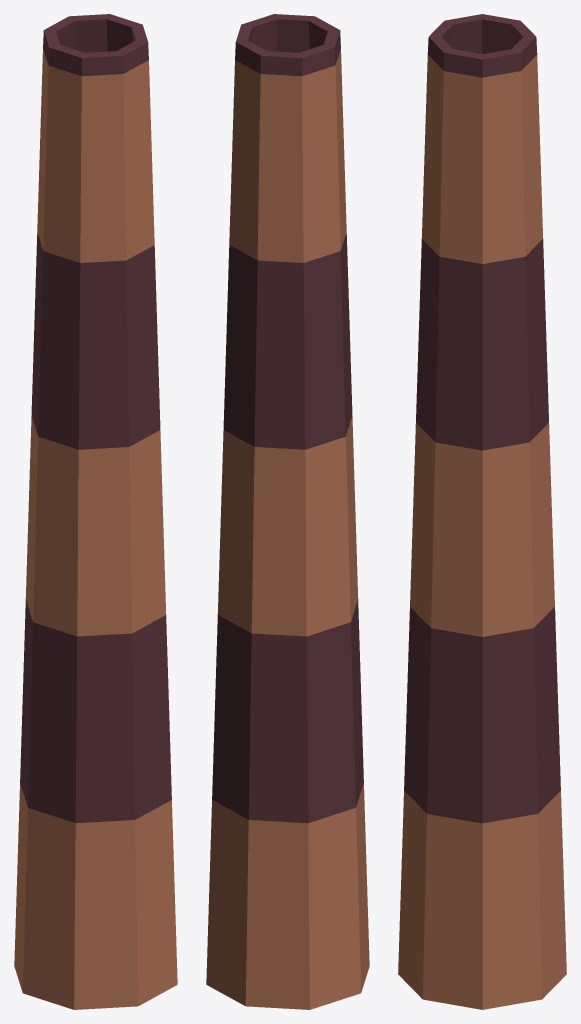
Rendered from chimney-big.fbx.
3 views of the same model, side by side, from view 1: azimuth 30°, elevation 25°; view 2: azimuth 150°, elevation 25°; view 3: azimuth 270°, elevation 25° (orthographic).
Parts seen in each view (by area): view 1: chimney-big; view 2: chimney-big; view 3: chimney-big.
Boxes of the visible parts, x1=… form: chimney-big: x1=14, y1=14, x2=177, y2=1009; chimney-big: x1=206, y1=14, x2=369, y2=1009; chimney-big: x1=398, y1=14, x2=566, y2=1009.
Bounding box in the file's own units: 3 × 18.39 × 3.
